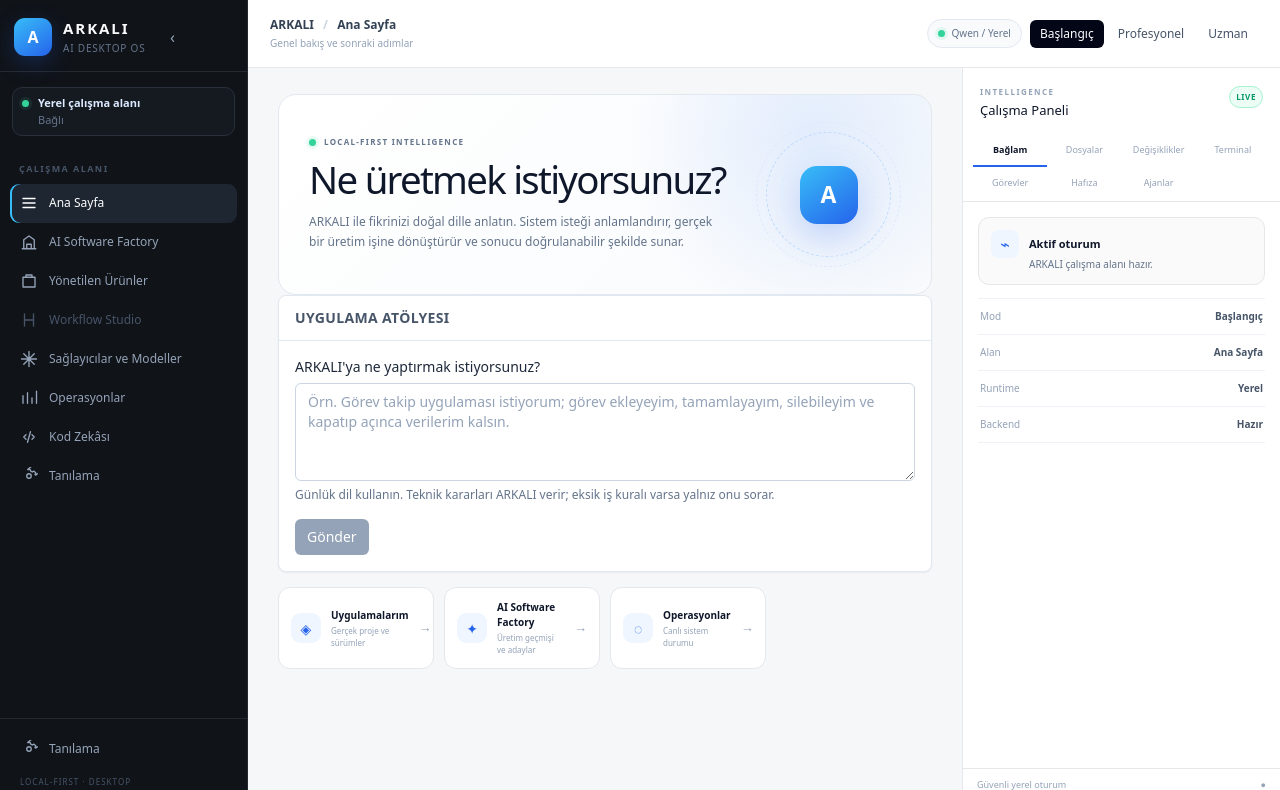
it: Visual Workflow Studio page › reports a refused publish with the backend code and message
Click the button "Uzman".
click(1228, 34)  # box [1198, 20, 1258, 48]
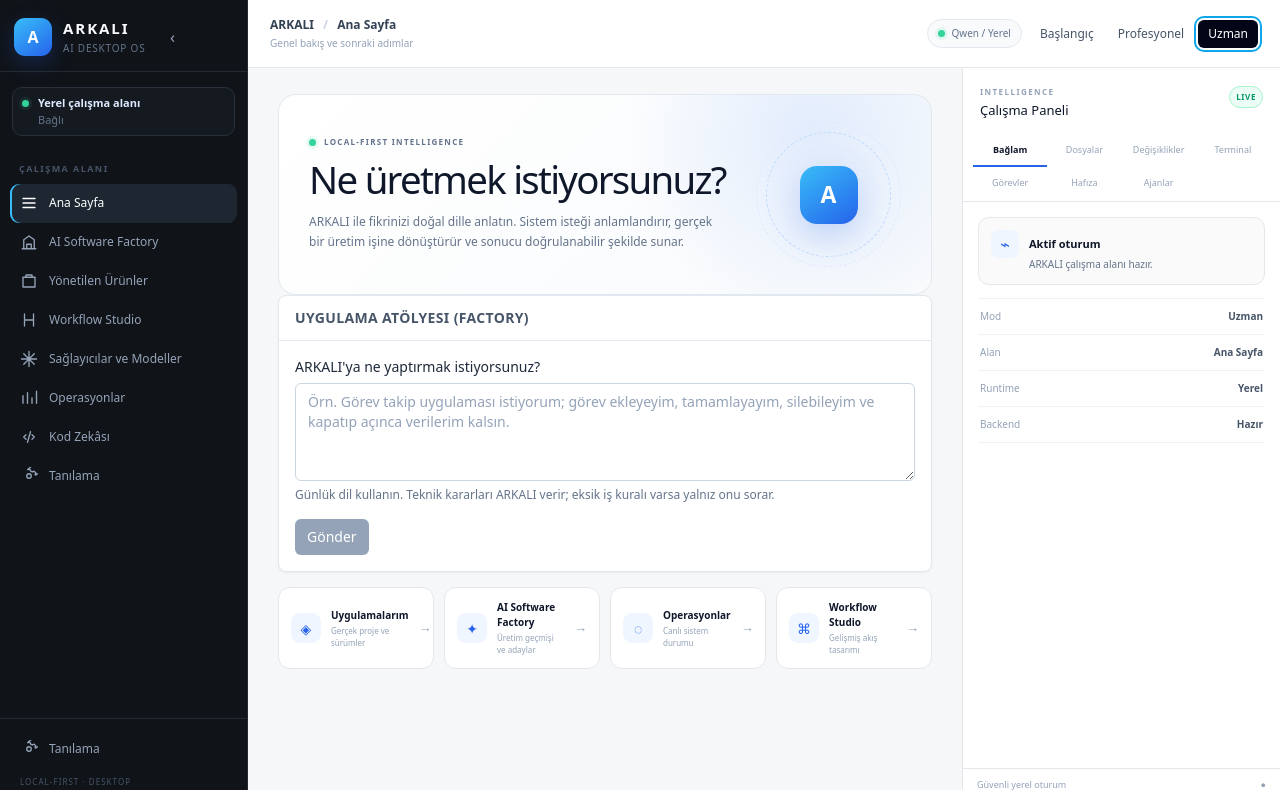
Click the button "Workflow Studio".
click(124, 320)  # box [10, 300, 237, 340]
(page scrolled)
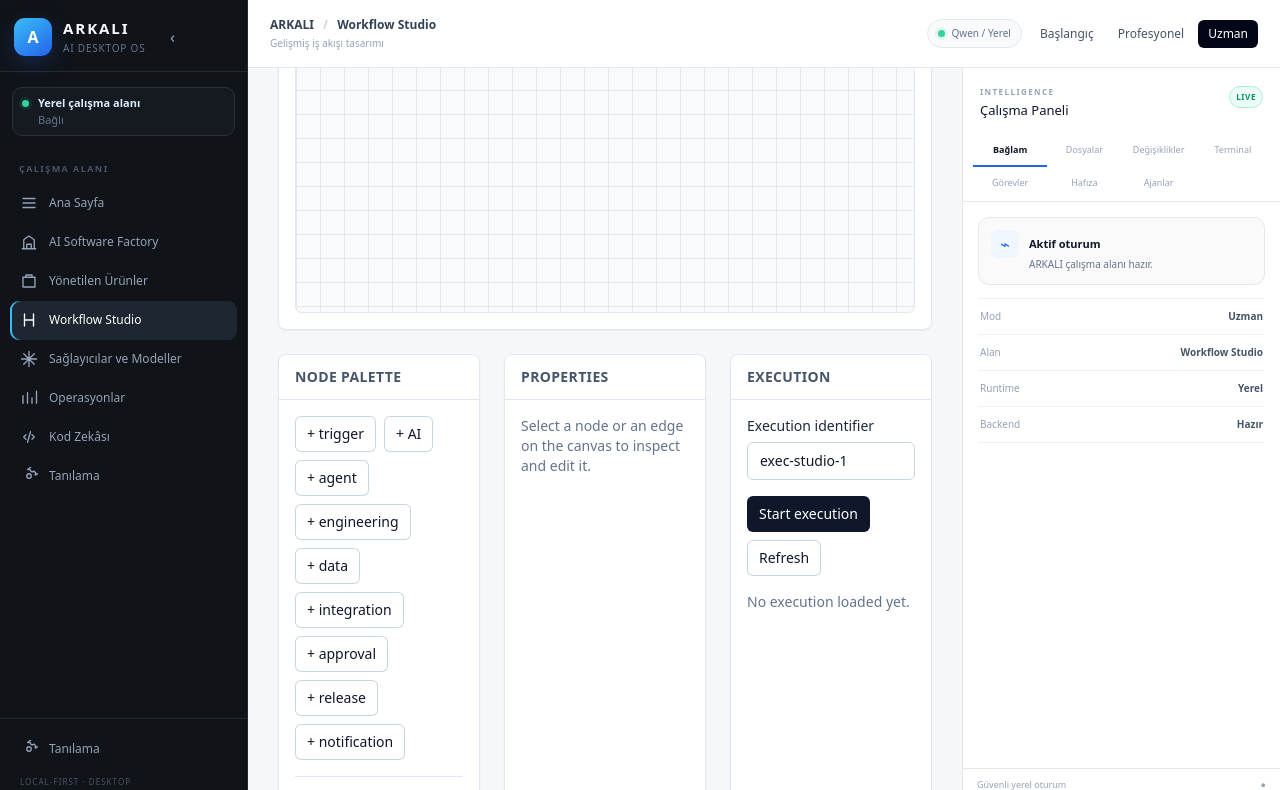
Click the button "+ trigger".
click(336, 434)  # box [295, 416, 376, 452]
(page scrolled)
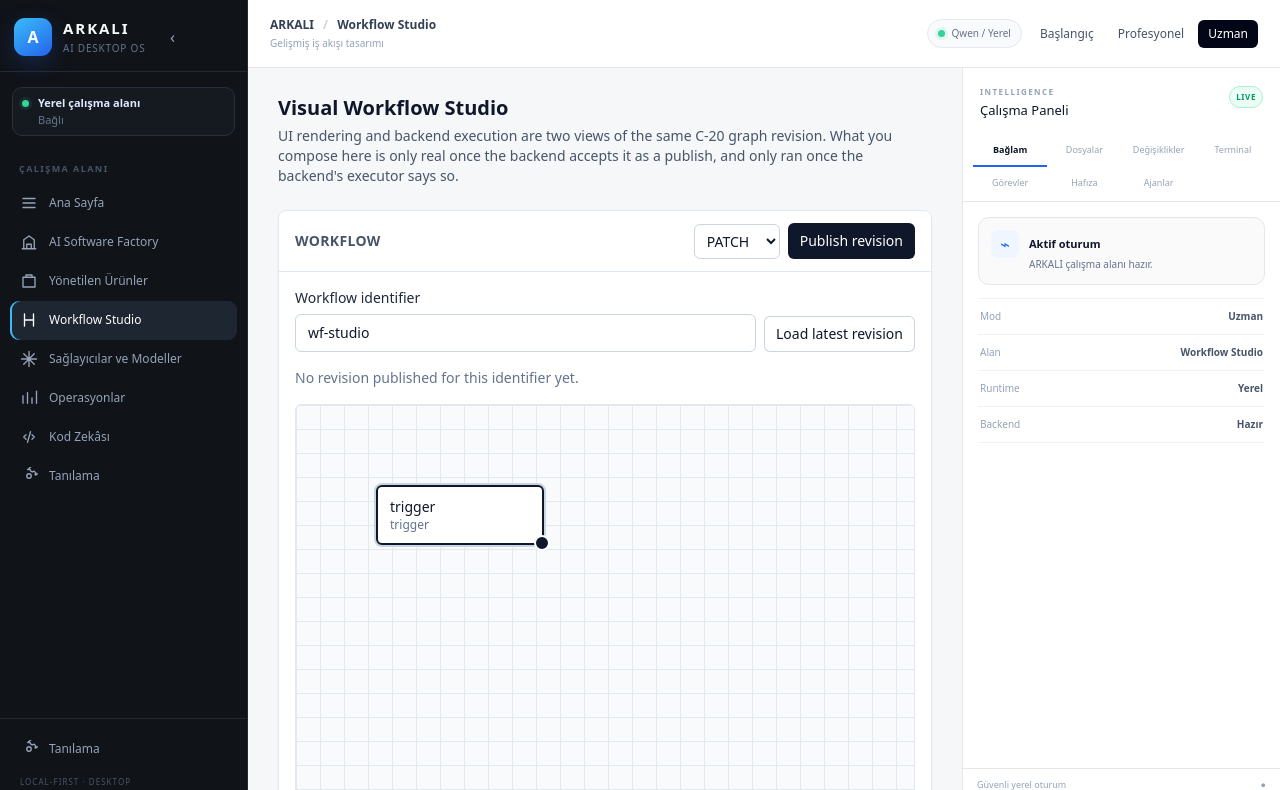
Click the button "Publish revision".
click(851, 241)  # box [788, 223, 915, 259]
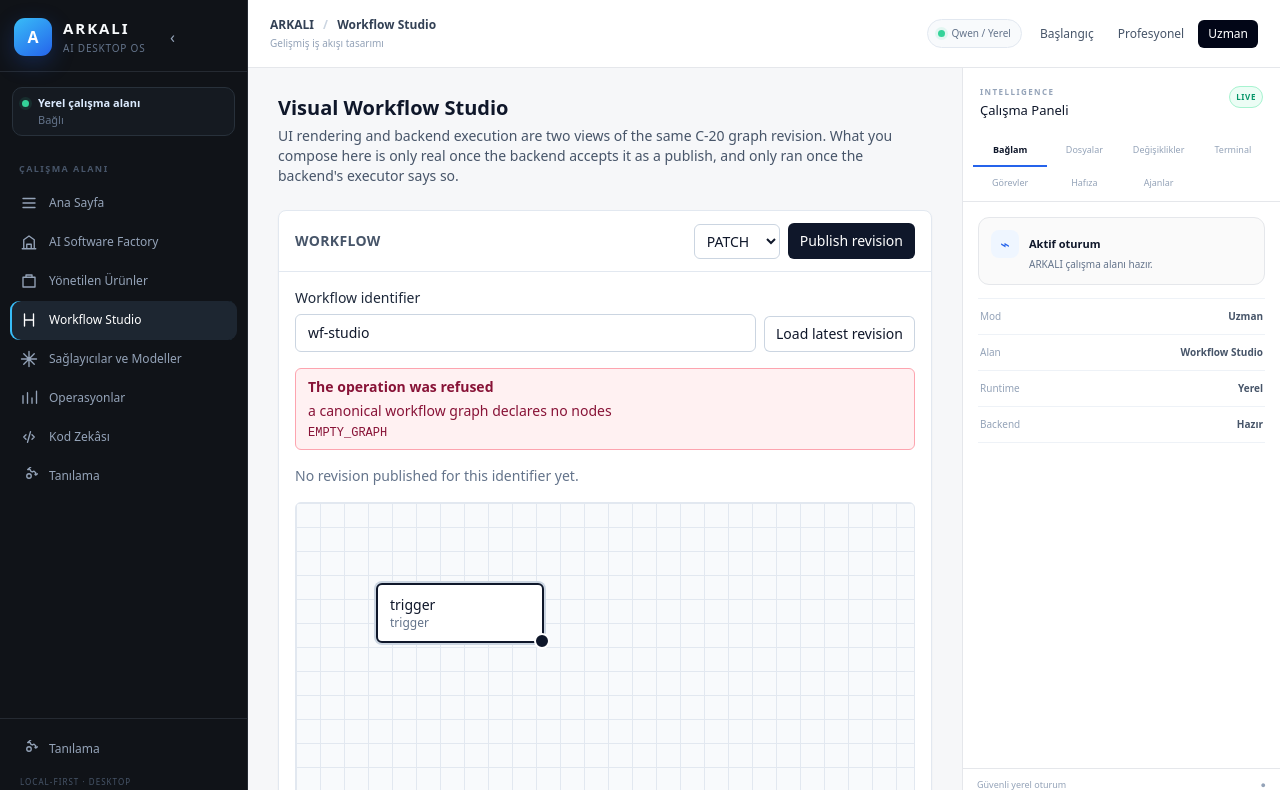
Result: the text "a canonical workflow graph declares no nodes" is shown at [308, 401, 612, 420]
Result: the text "EMPTY_GRAPH" is shown at [308, 426, 387, 440]
